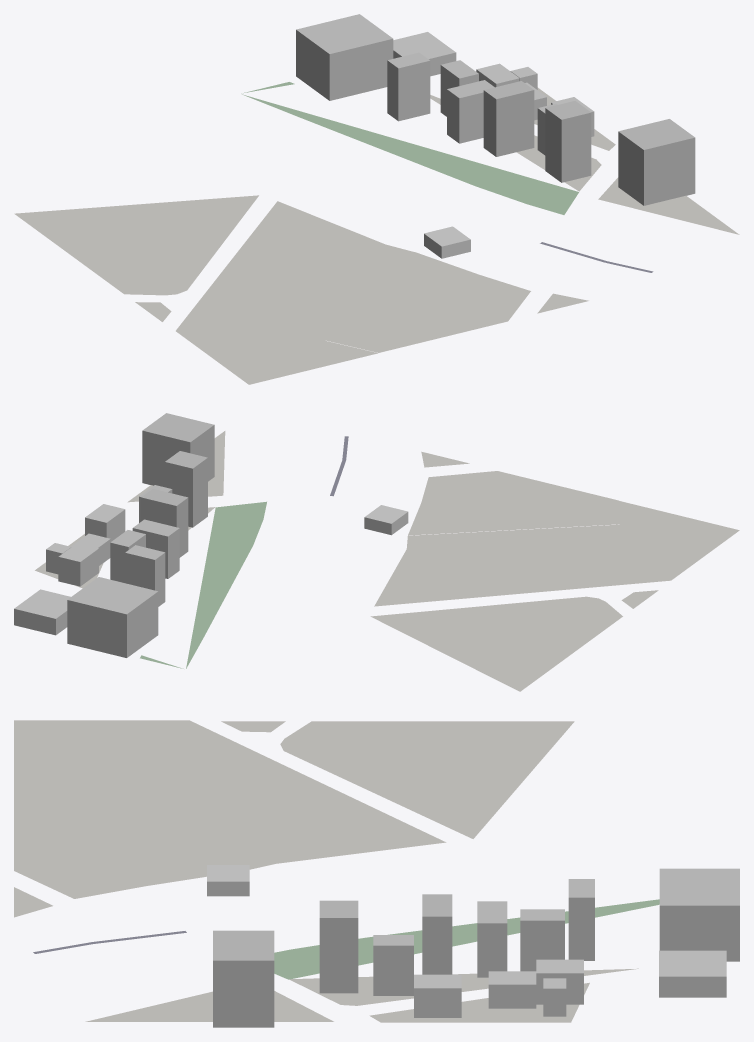
The model's file is 107_109_mid.glb.
3 renders of one model, top to bottom at view 1: azimuth 30°, elevation 25°; view 2: azimuth 150°, elevation 25°; view 3: azimuth 270°, elevation 25°, orthographic. The views are drawn at different scales.
Bounding box in the file's own units: 509 × 59.31 × 506.
